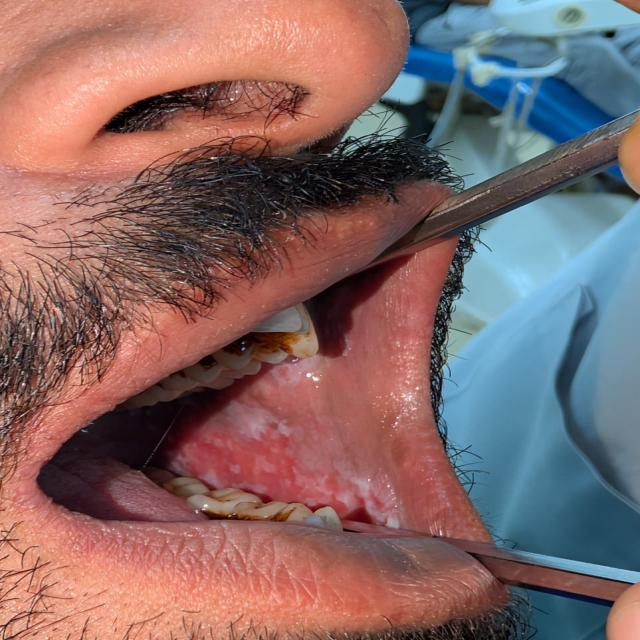leukoplakia-like-detection: (166, 370, 420, 527)
processing_area: (160, 245, 444, 523)
